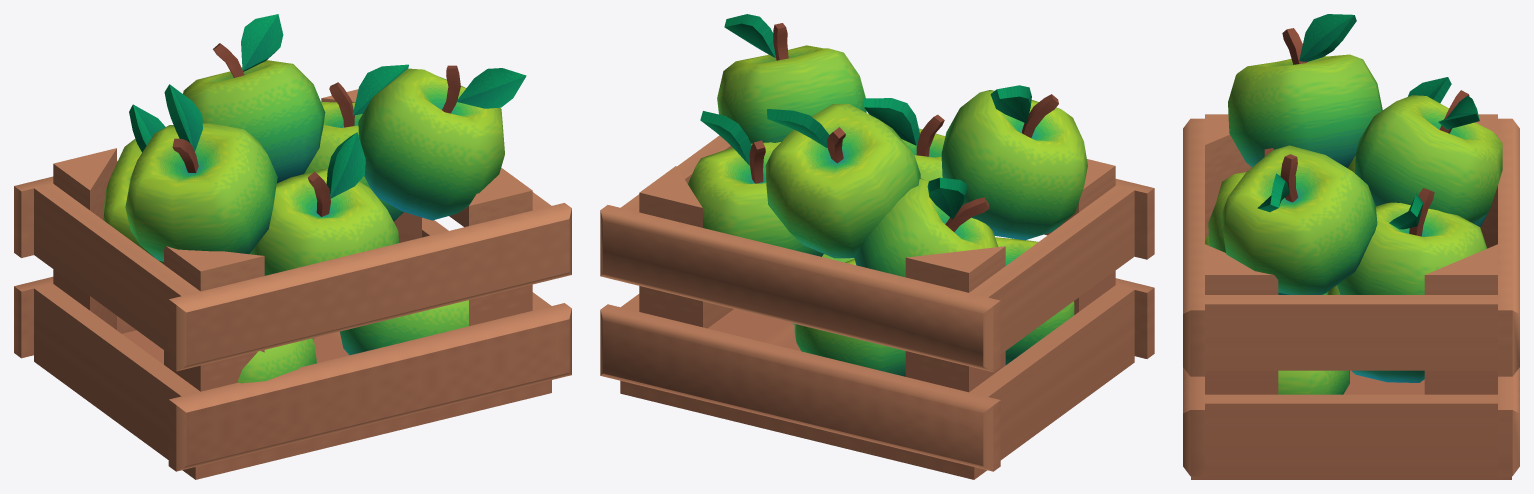
Rendered from Food_Crate_Large_Apples.gltf.
3 views of the same model, side by side, from view 1: azimuth 30°, elevation 25°; view 2: azimuth 150°, elevation 25°; view 3: azimuth 270°, elevation 25° (orthographic).
Visible parts, largest first — view 1: Food_Crate_Large_Apples; view 2: Food_Crate_Large_Apples; view 3: Food_Crate_Large_Apples.
Part boxes in pixels (box(x1,y1,x2,y2)): Food_Crate_Large_Apples: box(14, 14, 571, 479); Food_Crate_Large_Apples: box(600, 14, 1154, 479); Food_Crate_Large_Apples: box(1183, 14, 1519, 479).
Bounding box in the file's own units: 1.03 × 0.802 × 0.7657.
Materials: 1 (1 with a texture image).
